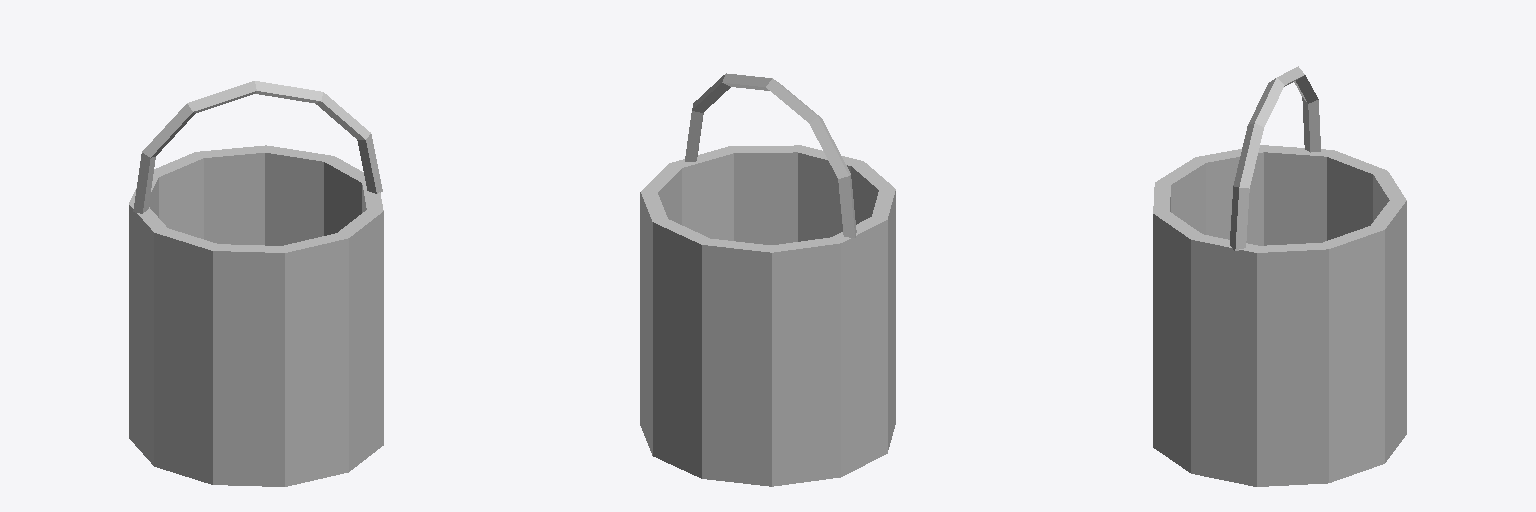
Rendered from bucket.obj.
3 views of the same model, side by side, from view 1: azimuth 30°, elevation 25°; view 2: azimuth 150°, elevation 25°; view 3: azimuth 270°, elevation 25° (orthographic).
Parts seen in each view (by area): view 1: bucket; view 2: bucket; view 3: bucket.
Part boxes in pixels (left/top/right/bottom): bucket: left=129, top=81, right=383, bottom=486; bucket: left=640, top=73, right=895, bottom=486; bucket: left=1153, top=66, right=1406, bottom=486.
Bounding box in the file's own units: 0.8531 × 1.3 × 0.847.